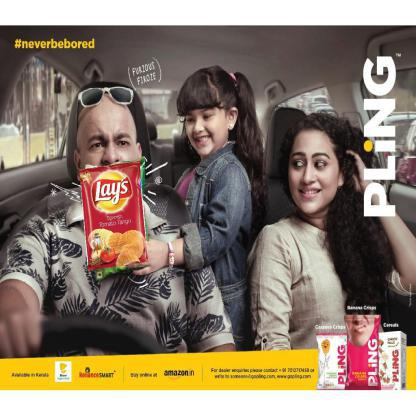tangy_tomato: (77, 157, 149, 282)
